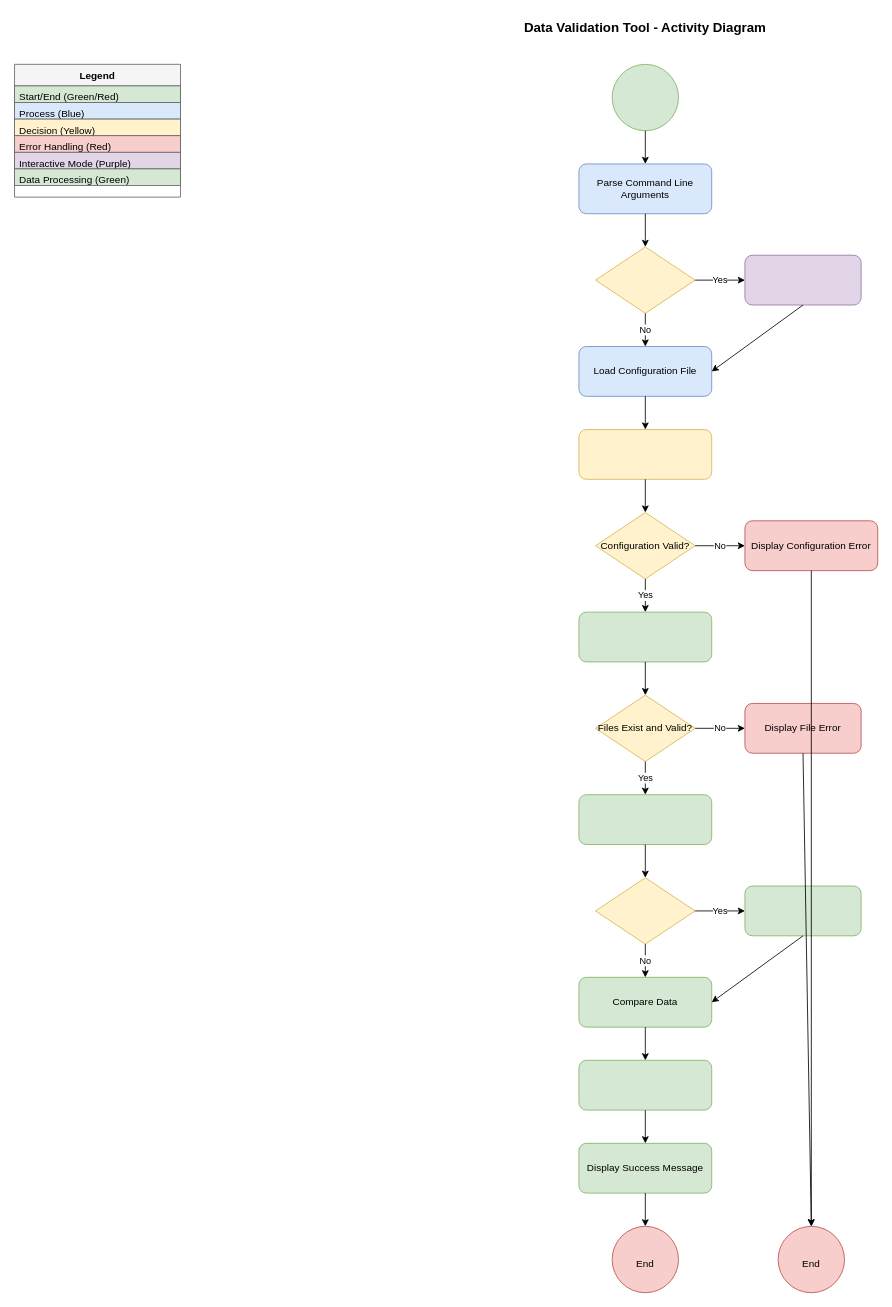
Image size: 892x1307. Some labels were removed from this diagram. Here are the shapes that lost their labels. From the top down, the centre of each, then its label:
At point 645,97: "Start".
At point 645,279: "Arguments Provided?".
At point 802,279: "Run Interactive Mode".
At point 645,454: "Validate Configuration".
At point 645,636: "Prepare Data Frames".
At point 645,819: "Join Data Frames".
At point 645,910: "Aggregation Required?".
At point 802,910: "Apply Aggregation".
At point 645,1084: "Write Output File".
